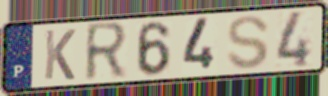4: (274, 9, 315, 69), (181, 15, 220, 76)
6: (135, 18, 174, 78)
K: (42, 27, 78, 82)
R: (83, 20, 131, 85)
S: (225, 14, 272, 72)
